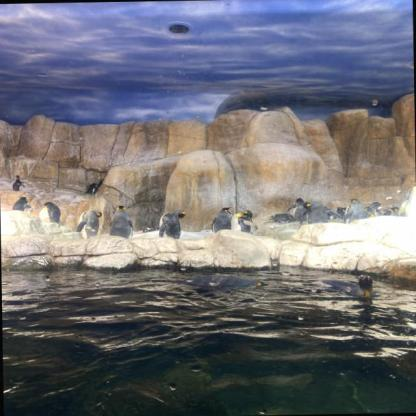penguin: (304, 274, 374, 300), (176, 274, 270, 293), (157, 209, 186, 239), (108, 205, 134, 238), (76, 209, 101, 239), (210, 207, 235, 233), (231, 210, 257, 232), (303, 201, 327, 224), (286, 197, 308, 221), (39, 201, 60, 225), (345, 198, 365, 221), (405, 180, 416, 217), (12, 196, 33, 214), (320, 206, 338, 221), (366, 201, 382, 217), (269, 214, 294, 223), (12, 175, 26, 190), (389, 206, 403, 216), (337, 206, 347, 218)
